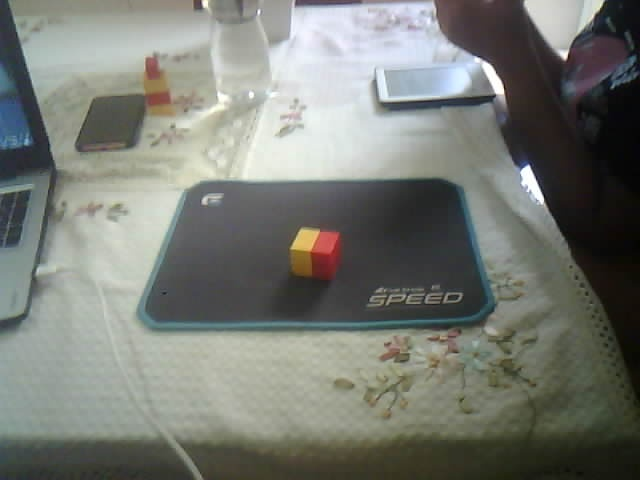lego: (288, 226, 341, 280), (140, 57, 174, 114)
